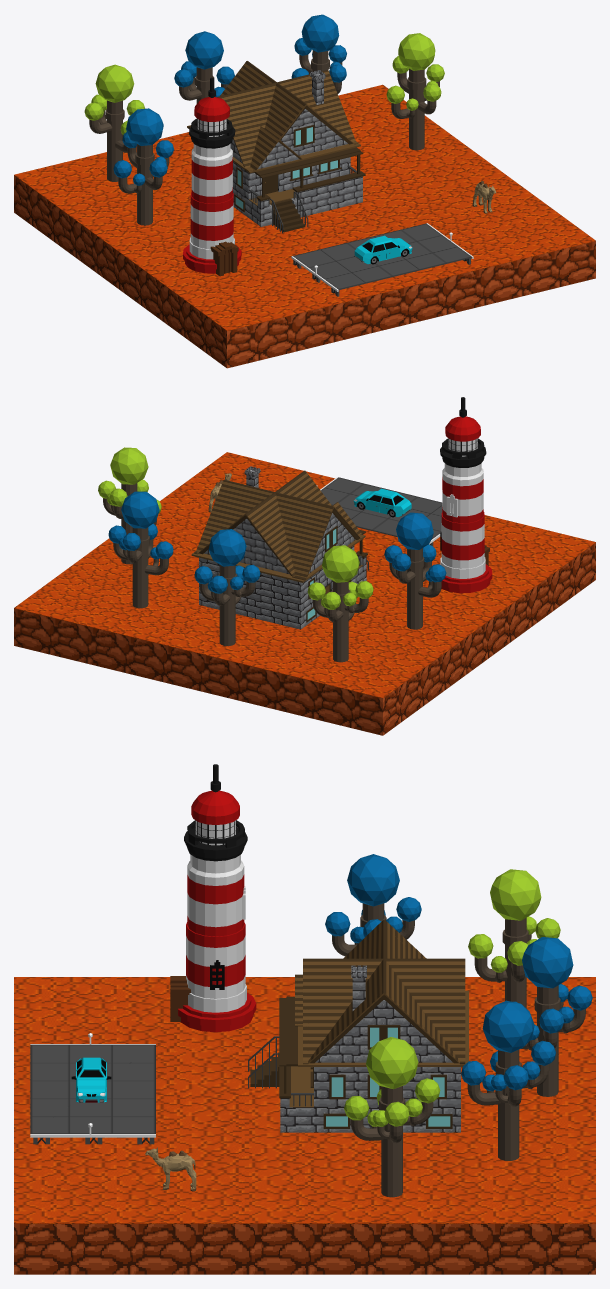
3 views of the same model, one above another, from view 1: azimuth 30°, elevation 25°; view 2: azimuth 150°, elevation 25°; view 3: azimuth 270°, elevation 25° (orthographic). The views are drawn at different scales.
Visible parts, largest first — view 1: Cube.001, Cube.586, OBJRANDOM_LIGHTHOUSE, VEHICLES_CAR, ANIMAL_CAMELLO; view 2: Cube.001, Cube.586, OBJRANDOM_LIGHTHOUSE, VEHICLES_CAR; view 3: Cube.001, Cube.586, OBJRANDOM_LIGHTHOUSE, VEHICLES_CAR, ANIMAL_CAMELLO.
Part boxes in pixels (<box>): Cube.001: <box>14,14,595,368</box>; Cube.586: <box>187,61,365,233</box>; OBJRANDOM_LIGHTHOUSE: <box>183,77,241,276</box>; VEHICLES_CAR: <box>354,235,412,264</box>; ANIMAL_CAMELLO: <box>472,181,496,213</box>; Cube.001: <box>14,447,595,735</box>; Cube.586: <box>191,466,368,629</box>; OBJRANDOM_LIGHTHOUSE: <box>440,397,492,593</box>; VEHICLES_CAR: <box>353,488,412,517</box>; Cube.001: <box>14,854,595,1274</box>; Cube.586: <box>248,920,468,1132</box>; OBJRANDOM_LIGHTHOUSE: <box>170,764,256,1032</box>; VEHICLES_CAR: <box>71,1057,111,1102</box>; ANIMAL_CAMELLO: <box>145,1147,196,1191</box>.
Size of the model in its own units: 4000 by 2476 by 4000.
Materials: 36 (5 with a texture image).
